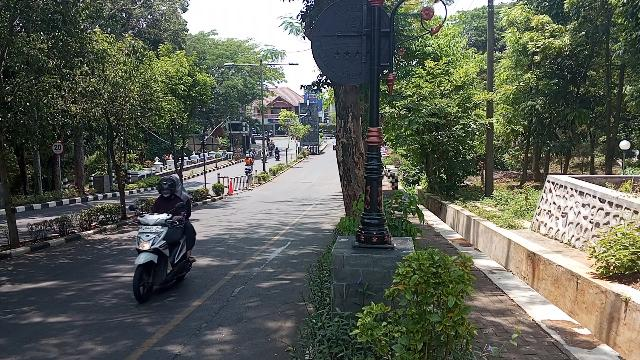helm: (158, 177, 178, 200)
motor: (127, 202, 197, 306)
